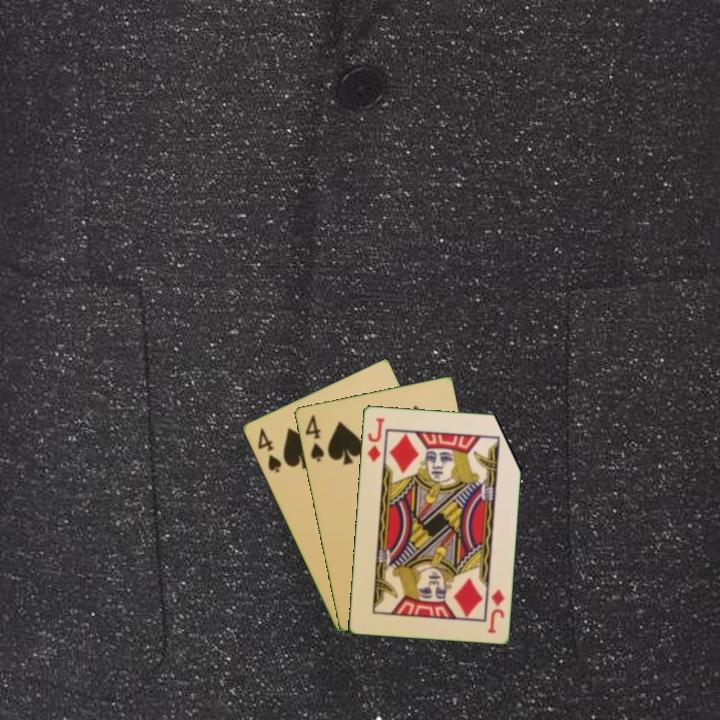4s: (254, 424, 284, 476), (301, 411, 327, 464)
Jd: (484, 585, 507, 636), (364, 414, 387, 464)
